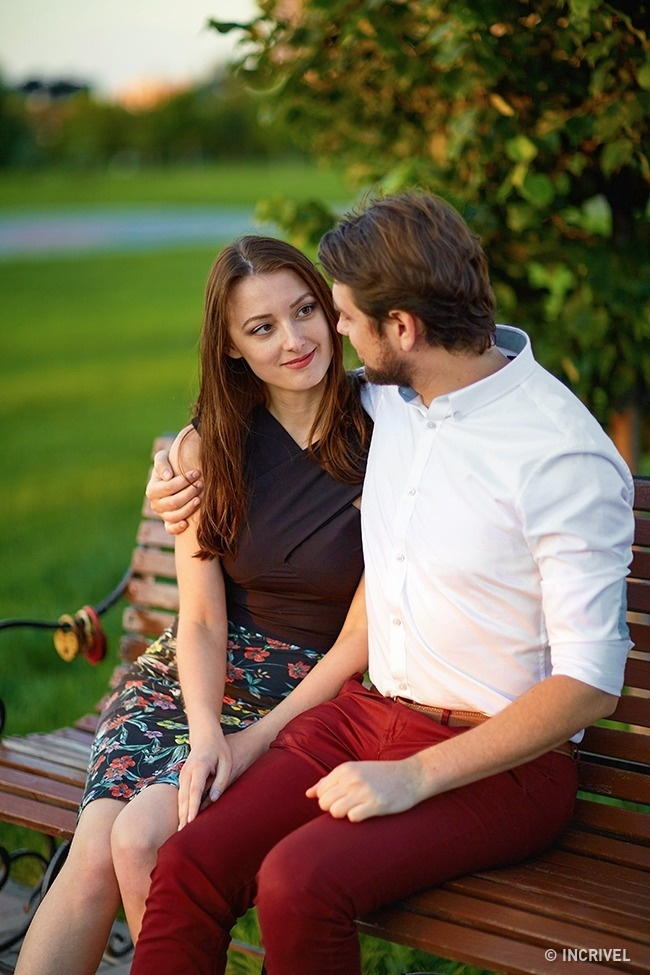Humano: (332, 182, 639, 928), (102, 221, 334, 769)
